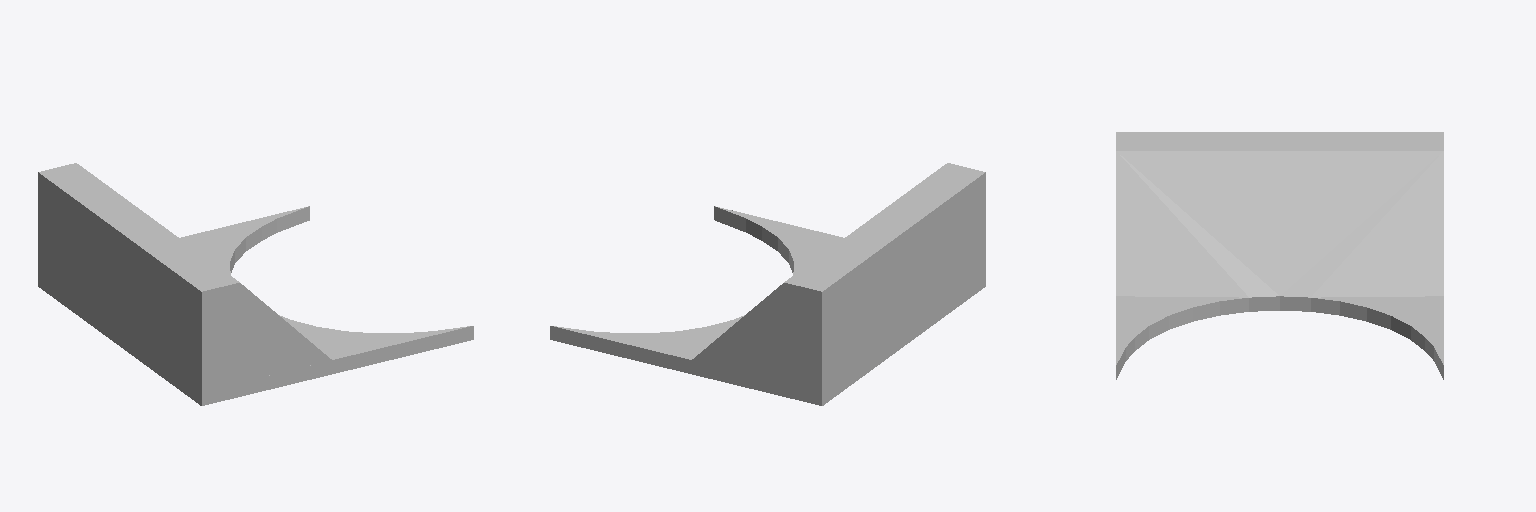
File: Scoreboard.obj
3 renders of one model, left to right at view 1: azimuth 30°, elevation 25°; view 2: azimuth 150°, elevation 25°; view 3: azimuth 270°, elevation 25°, orthographic.
Visible parts, largest first — view 1: Table; view 2: Table; view 3: Table.
Boxes of the visible parts, box(x1,y1,x2,y2) form: Table: box(38, 163, 473, 405); Table: box(550, 163, 985, 405); Table: box(1116, 132, 1443, 379).
Bounding box in the file's own units: 100 × 40.16 × 104.